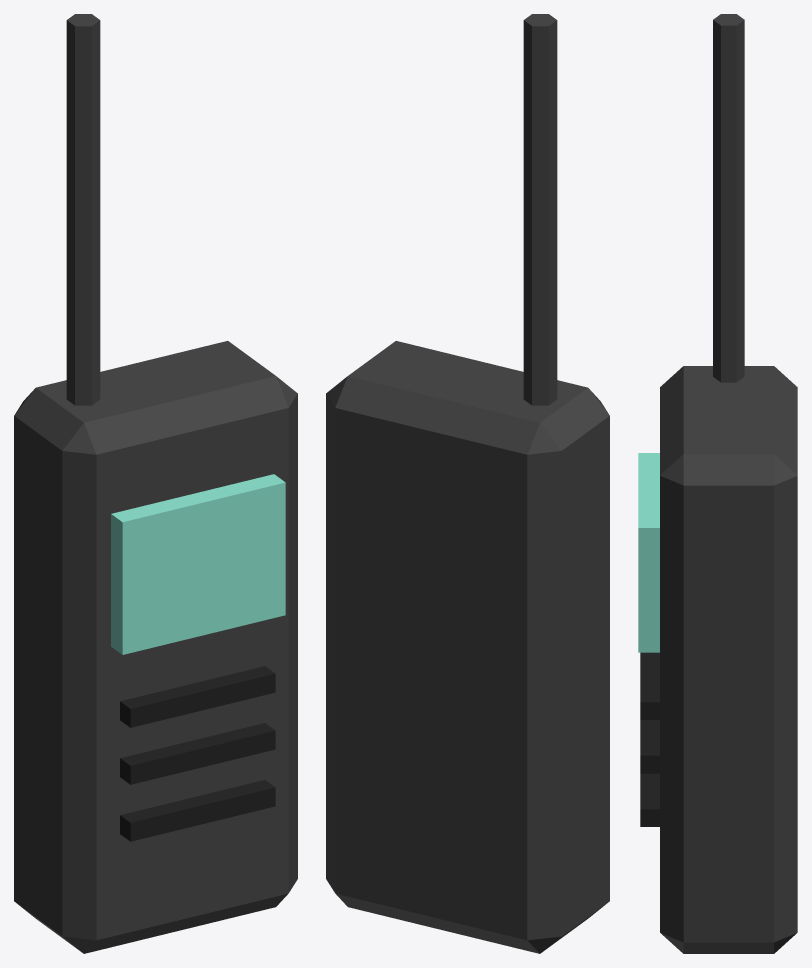
3 views of the same model, side by side, from view 1: azimuth 30°, elevation 25°; view 2: azimuth 150°, elevation 25°; view 3: azimuth 270°, elevation 25° (orthographic). The views are drawn at different scales.
Parts seen in each view (by area): view 1: Radio, Screen, Antenna, Speaker slot.001, Speaker slot.002, Speaker slot; view 2: Radio, Antenna; view 3: Radio, Antenna, Screen, Speaker slot.002, Speaker slot, Speaker slot.001.
Boxes of the visible parts, box(x1,y1,x2,y2) form: Radio: box(14, 341, 297, 953); Screen: box(111, 474, 285, 654); Antenna: box(66, 14, 100, 405); Speaker slot.001: box(120, 723, 275, 784); Speaker slot.002: box(120, 666, 275, 727); Speaker slot: box(120, 780, 275, 841); Radio: box(326, 341, 609, 953); Antenna: box(523, 14, 557, 405); Radio: box(660, 366, 797, 953); Antenna: box(713, 14, 744, 382); Screen: box(638, 453, 659, 652); Speaker slot.002: box(640, 652, 659, 719); Speaker slot: box(640, 773, 659, 826); Speaker slot.001: box(640, 720, 659, 773).
Bounding box in the file's own units: 0.13 × 0.48 × 0.081.
1 material, 1 textured.
